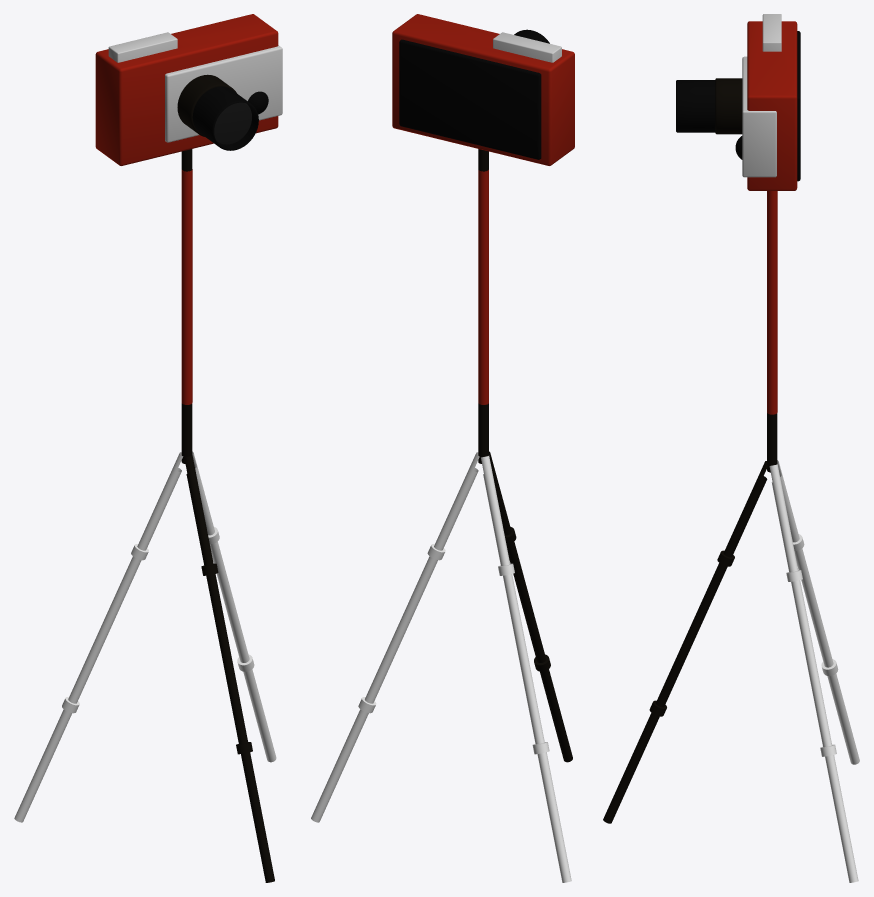
File: camera.fbx
3 views of the same model, side by side, from view 1: azimuth 30°, elevation 25°; view 2: azimuth 150°, elevation 25°; view 3: azimuth 270°, elevation 25° (orthographic). The views are drawn at different scales.
Visible parts, largest first — view 1: Cube, Cube_3, Plane_0, Plane_1, Plane_2, Cylinder_4, Cylinder, Cube_4, Cylinder_2, Cylinder_1, Cylinder_5; view 2: Cube_2, Cube, Plane_1, Plane_2, Plane_0, Cylinder_4, Cube_4, Cylinder_5; view 3: Cube, Plane_2, Plane_0, Plane_1, Cube_3, Cylinder_4, Cylinder, Cylinder_1, Cube_4, Cube_2, Cylinder_5.
Boxes of the visible parts, x1,y1,x2,y2 form: Cube: [95, 14, 278, 165]; Cube_3: [165, 45, 282, 142]; Plane_0: [184, 455, 274, 882]; Plane_1: [14, 452, 183, 822]; Plane_2: [192, 451, 276, 762]; Cylinder_4: [181, 169, 192, 404]; Cylinder: [192, 86, 258, 150]; Cube_4: [108, 32, 177, 62]; Cylinder_2: [214, 102, 251, 145]; Cylinder_1: [177, 74, 236, 136]; Cylinder_5: [181, 403, 192, 463]; Cube_2: [399, 39, 541, 159]; Cube: [392, 14, 574, 165]; Plane_1: [481, 455, 571, 882]; Plane_2: [311, 452, 479, 822]; Plane_0: [489, 451, 572, 762]; Cylinder_4: [478, 170, 488, 404]; Cube_4: [493, 32, 561, 62]; Cylinder_5: [478, 403, 488, 463]; Cube: [747, 21, 797, 190]; Plane_2: [769, 464, 858, 882]; Plane_0: [603, 461, 768, 823]; Plane_1: [777, 460, 859, 764]; Cube_3: [742, 56, 776, 177]; Cylinder_4: [767, 191, 777, 414]; Cylinder: [676, 80, 715, 132]; Cylinder_1: [715, 78, 742, 134]; Cube_4: [762, 14, 781, 51]; Cube_2: [797, 31, 800, 181]; Cylinder_5: [767, 413, 777, 472].
Size of the model in its own units: 38.2 by 111 by 33.33.
6 materials, 1 textured.
